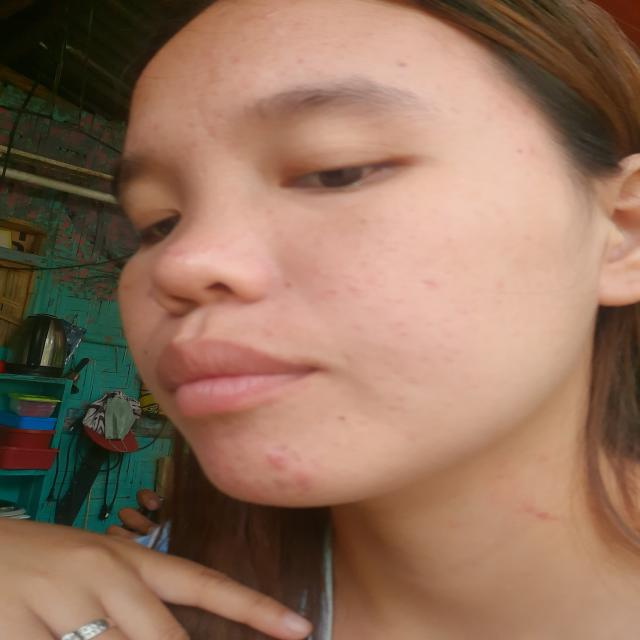Acne: (261, 440, 324, 494), (423, 303, 473, 366), (204, 435, 260, 490), (319, 274, 382, 300), (192, 48, 225, 86), (388, 314, 407, 343), (182, 135, 199, 166), (200, 93, 229, 110), (384, 394, 407, 414), (414, 276, 438, 290), (163, 244, 186, 258), (205, 120, 217, 140), (406, 429, 421, 444), (393, 60, 411, 70), (229, 55, 242, 67), (149, 120, 162, 132), (239, 80, 251, 92), (185, 121, 199, 130), (120, 281, 131, 291), (295, 59, 307, 65)
